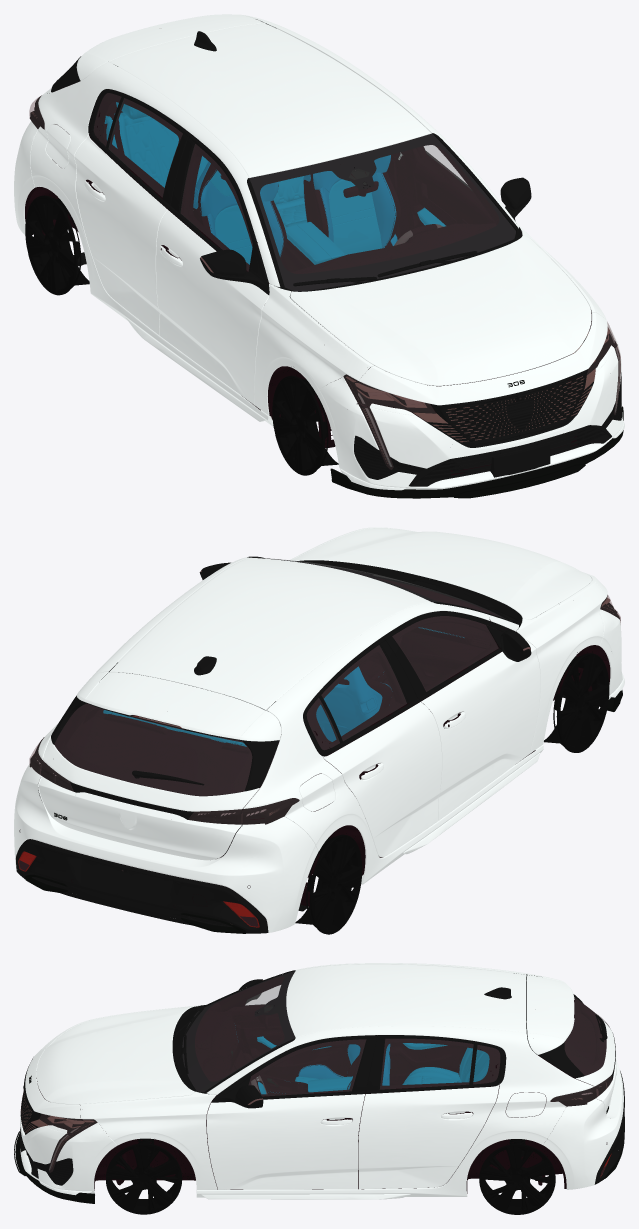
3 views of the same model, one above another, from view 1: azimuth 30°, elevation 25°; view 2: azimuth 150°, elevation 25°; view 3: azimuth 270°, elevation 25° (orthographic). The views are drawn at different scales.
Parts seen in each view (by area): view 1: skel_mesh_009_001_vehicle_paint1_0, skel_mesh_016_001_vehicle_interior2_001-material_0, ext_glass_ext_glass_0, WIPER_03_vehicle_mesh001_0; view 2: skel_mesh_009_001_vehicle_paint1_0, skel_mesh_016_001_vehicle_interior2_001-material_0, ext_glass_ext_glass_0, WIPER_03_vehicle_mesh001_0; view 3: skel_mesh_009_001_vehicle_paint1_0, skel_mesh_016_001_vehicle_interior2_001-material_0, ext_glass_ext_glass_0, WIPER_03_vehicle_mesh001_0.
Part boxes in pixels (x1,y1,x2,y2): skel_mesh_009_001_vehicle_paint1_0: [14, 14, 624, 490]; skel_mesh_016_001_vehicle_interior2_001-material_0: [25, 81, 623, 498]; ext_glass_ext_glass_0: [29, 93, 620, 469]; WIPER_03_vehicle_mesh001_0: [29, 19, 621, 486]; skel_mesh_009_001_vehicle_paint1_0: [14, 527, 624, 932]; skel_mesh_016_001_vehicle_interior2_001-material_0: [19, 570, 622, 934]; ext_glass_ext_glass_0: [18, 558, 620, 927]; WIPER_03_vehicle_mesh001_0: [16, 556, 620, 933]; skel_mesh_009_001_vehicle_paint1_0: [20, 963, 623, 1199]; skel_mesh_016_001_vehicle_interior2_001-material_0: [14, 976, 622, 1214]; ext_glass_ext_glass_0: [40, 971, 612, 1177]; WIPER_03_vehicle_mesh001_0: [20, 970, 624, 1191].
Bounding box in the file's own units: 0.0212 × 0.0144 × 0.0455.
5 materials, 5 textured.
